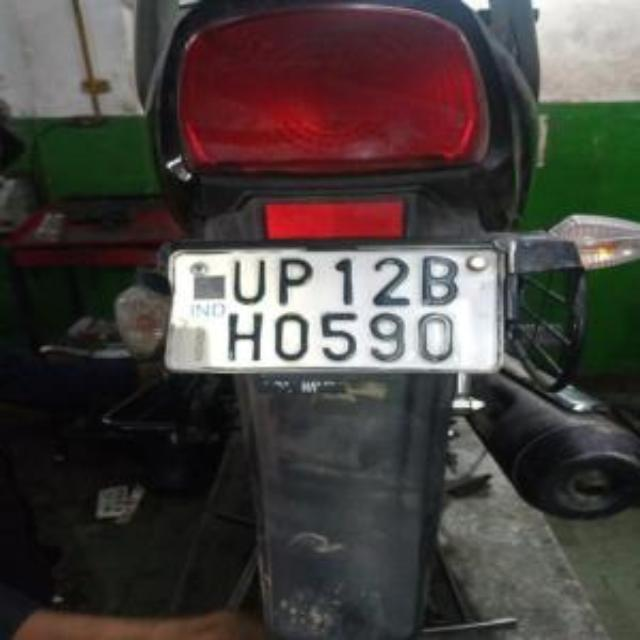License Plate: (166, 248, 503, 372)
